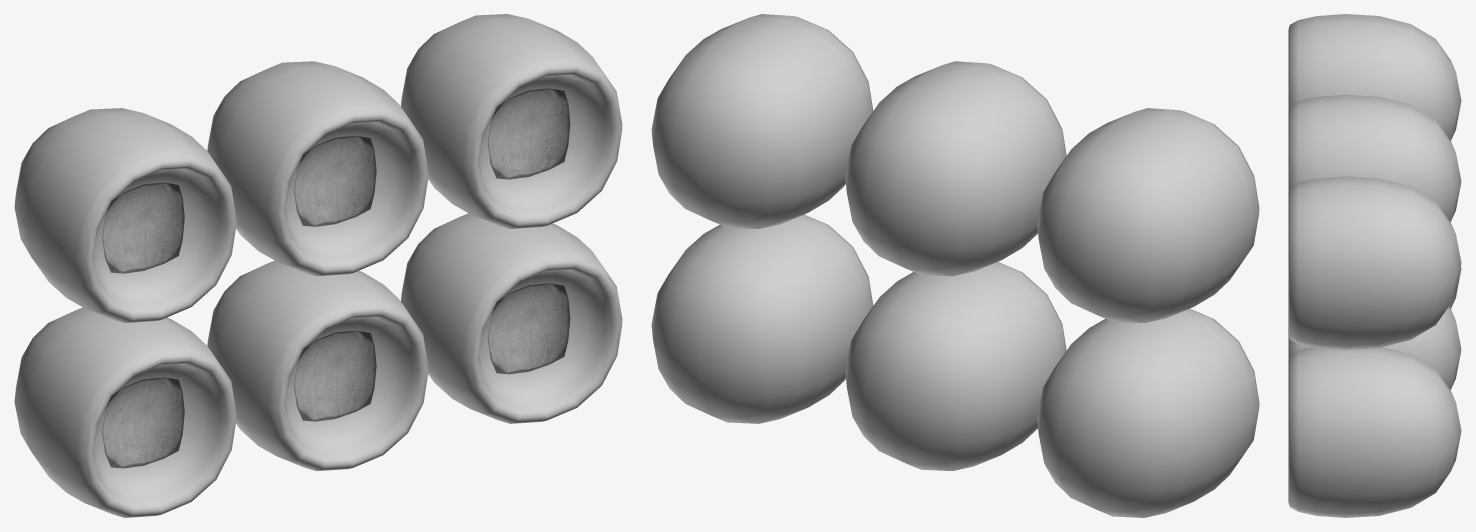
The model's file is SM_StartLights_00.fbx.
3 renders of one model, left to right at view 1: azimuth 30°, elevation 25°; view 2: azimuth 150°, elevation 25°; view 3: azimuth 270°, elevation 25°, orthographic. The views are drawn at different scales.
Parts seen in each view (by area): view 1: SM_StartLights_00; view 2: SM_StartLights_00; view 3: SM_StartLights_00.
Boxes of the visible parts, x1,y1,x2,y2 form: SM_StartLights_00: (14,14,622,517); SM_StartLights_00: (651,14,1259,517); SM_StartLights_00: (1288,14,1461,517).
Size of the model in its own units: 437 by 281 by 136.
